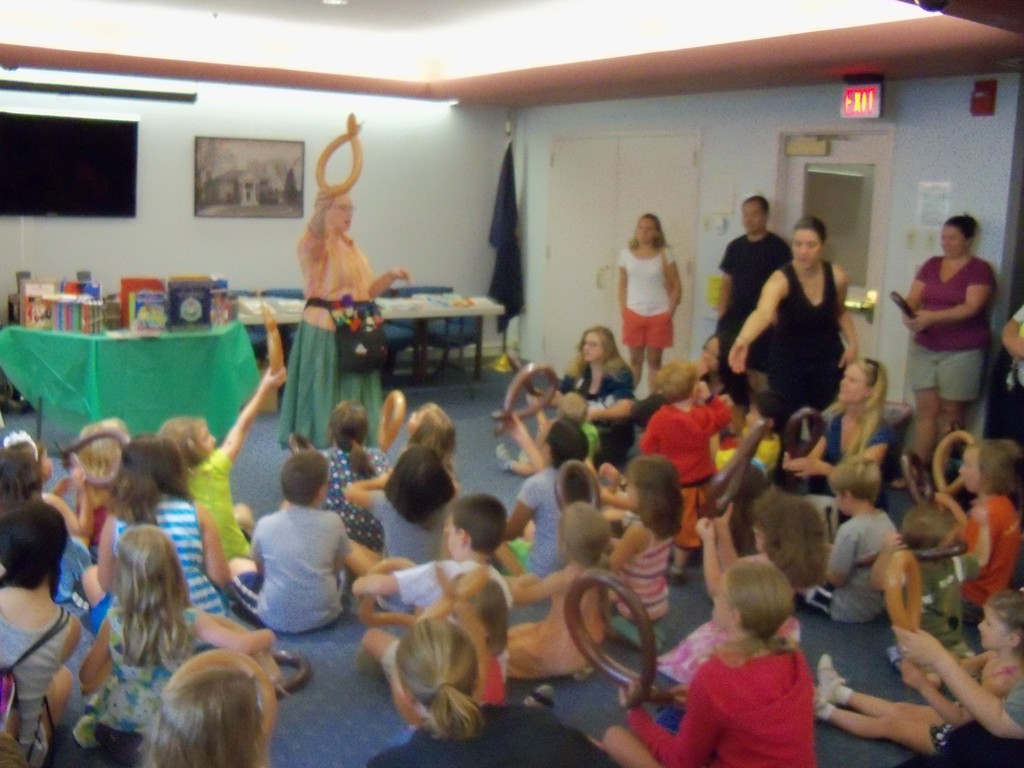Person: (0, 191, 1024, 766)
